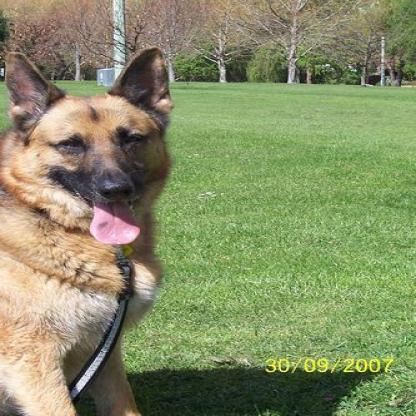German_shepherd: (0, 47, 171, 414)
